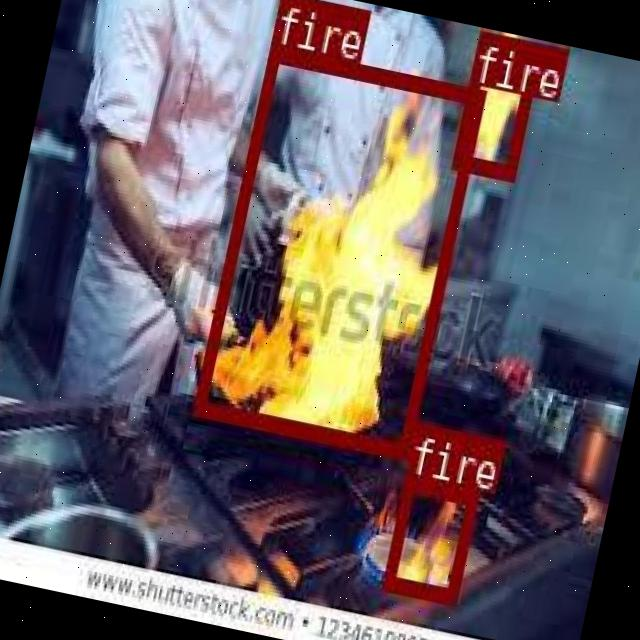fire: (191, 42, 484, 456), (452, 28, 540, 176), (379, 472, 478, 600)
